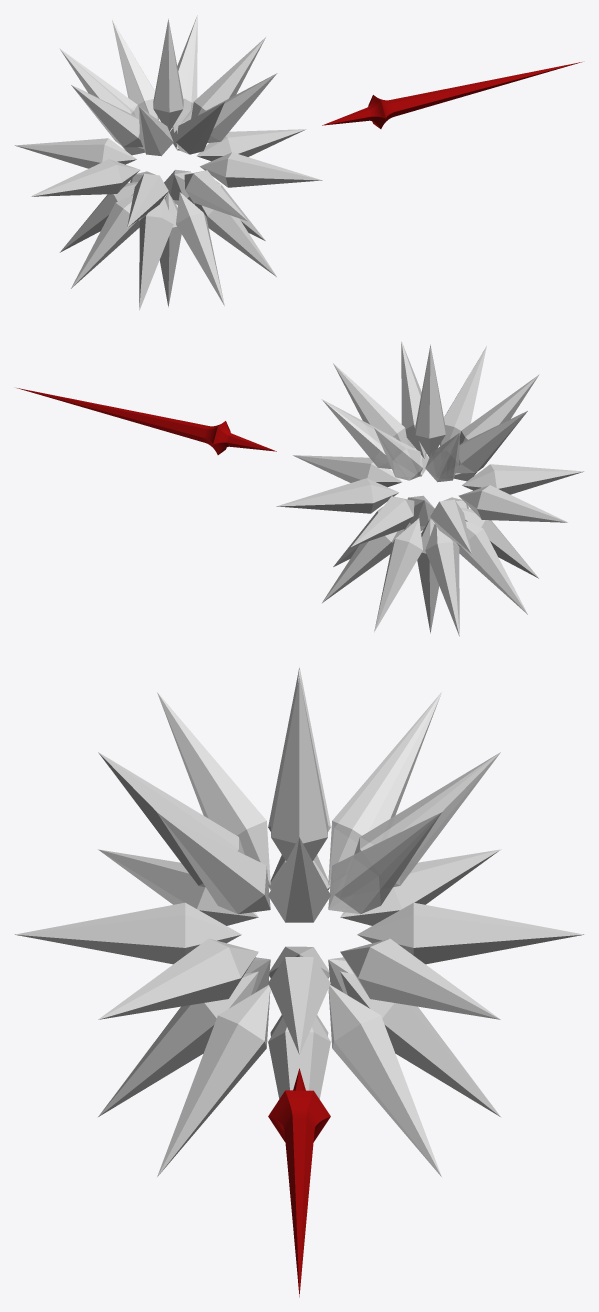
The model's file is Qetazilu.fbx.
3 views of the same model, one above another, from view 1: azimuth 30°, elevation 25°; view 2: azimuth 150°, elevation 25°; view 3: azimuth 270°, elevation 25° (orthographic). The views are drawn at different scales.
Visible parts, largest first — view 1: Radiant Sword, Icosphere, Icosphere.018, Icosphere.006, Icosphere.002, Icosphere.012, Icosphere.009, Icosphere.007, Icosphere.026, Icosphere.019, Icosphere.005, Icosphere.024 (+11 smaller); view 2: Radiant Sword, Icosphere.015, Icosphere.018, Icosphere.011, Icosphere.017, Icosphere.010, Icosphere.009, Icosphere.007, Icosphere.026, Icosphere.019, Icosphere.013, Icosphere.024 (+11 smaller); view 3: Icosphere.003, Icosphere.004, Icosphere.005, Icosphere.013, Icosphere.009, Icosphere, Icosphere.015, Icosphere.014, Icosphere.020, Icosphere.012, Icosphere.010, Icosphere.022 (+10 smaller).
Part boxes in pixels (x1,y1,x2,y2): Radiant Sword: (322,62,581,128); Icosphere: (200,152,322,187); Icosphere.018: (31,159,140,196); Icosphere.006: (139,198,173,310); Icosphere.002: (14,138,136,168); Icosphere.012: (176,192,224,306); Icosphere.009: (153,18,183,131); Icosphere.007: (71,195,142,288); Icosphere.026: (196,129,305,161); Icosphere.019: (71,85,142,147); Icosphere.005: (194,203,276,276); Icosphere.024: (191,37,265,118); Radiant Sword: (17,388,276,454); Icosphere.015: (276,478,398,513); Icosphere.018: (458,485,567,522); Icosphere.011: (425,524,459,636); Icosphere.017: (462,464,584,494); Icosphere.010: (374,518,422,632); Icosphere.009: (415,344,445,457); Icosphere.007: (456,521,527,614); Icosphere.026: (293,455,402,487); Icosphere.019: (456,411,527,473); Icosphere.013: (322,529,404,602); Icosphere.024: (333,363,407,444); Icosphere.003: (357,902,583,964); Icosphere.004: (15,902,241,964); Icosphere.005: (157,985,270,1176); Icosphere.013: (328,985,441,1176); Icosphere.009: (270,676,328,861); Icosphere: (98,938,258,1019); Icosphere.015: (340,938,500,1019); Icosphere.014: (328,692,441,885); Icosphere.020: (157,692,270,885); Icosphere.012: (98,971,258,1116); Icosphere.010: (340,971,500,1116); Icosphere.022: (157,812,270,914).
Bounding box in the file's own units: 3992 × 1992 × 1992.
